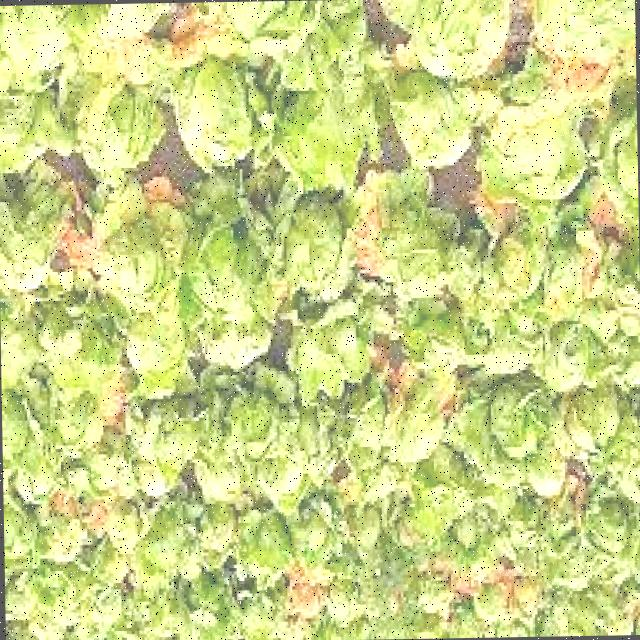Wilt_and_leaf_blight_on_lettuce: (6, 2, 288, 196)
